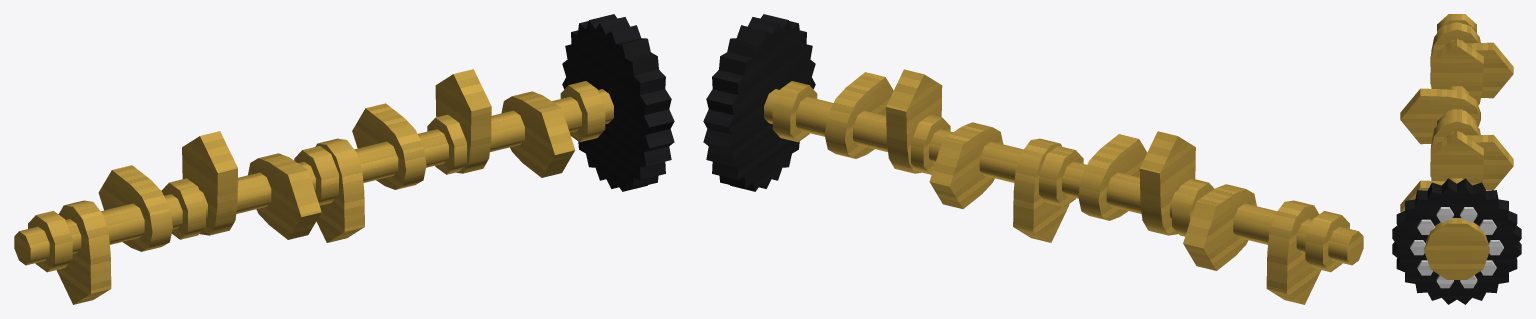
File: comando_especial.glb
The picture shows the model from 3 angles, left to right: view 1: azimuth 30°, elevation 25°; view 2: azimuth 150°, elevation 25°; view 3: azimuth 270°, elevation 25°; orthographic projection. The views are drawn at different scales.
Visible parts, largest first — view 1: comando_especial; view 2: comando_especial; view 3: comando_especial.
Part boxes in pixels (<box>): comando_especial: <box>14,14,674,304</box>; comando_especial: <box>703,14,1363,304</box>; comando_especial: <box>1392,14,1521,304</box>.
Bounding box in the file's own units: 0.492 × 0.119 × 0.119.
Materials: 2 (2 with a texture image).
